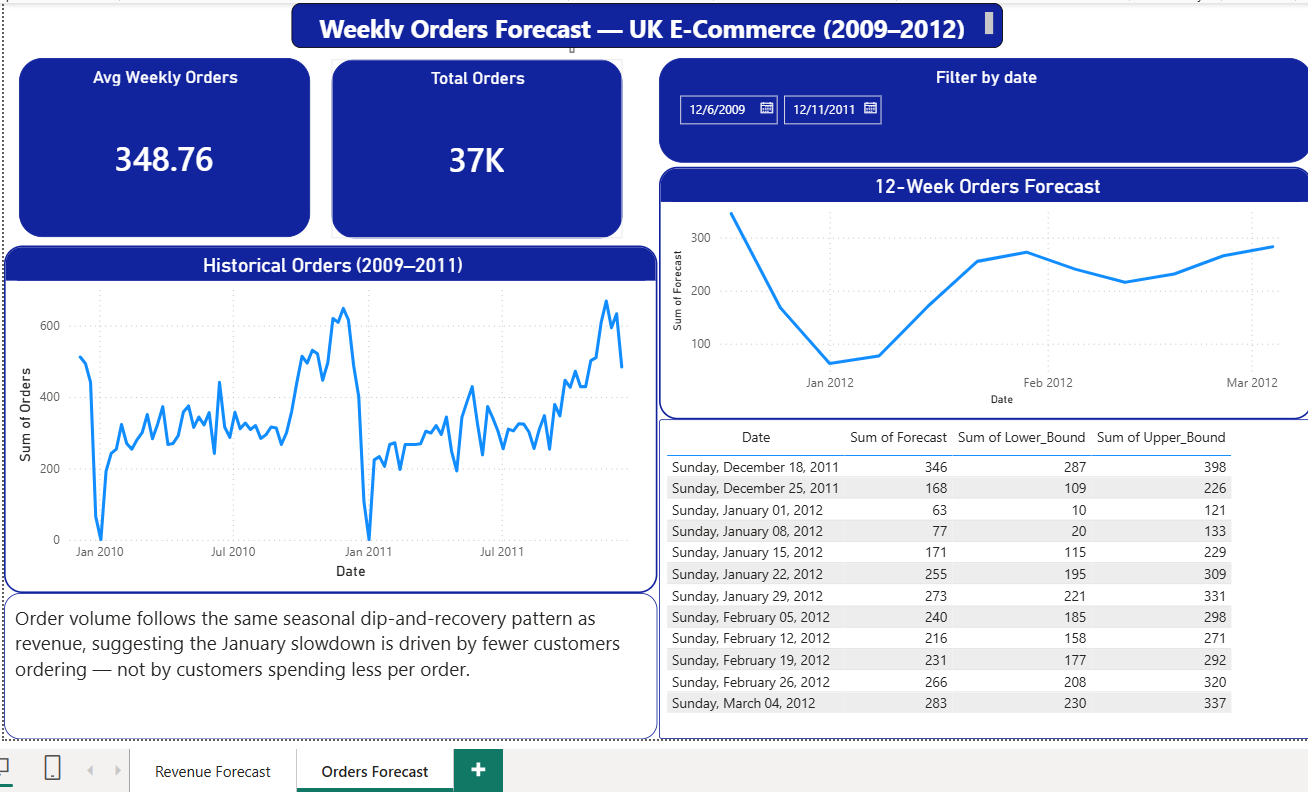

This screenshot's page, from the dashboard's own definition file:
{"tool":"powerbi","page":{"name":"Orders Forecast","canvas":[1280,720],"ordinal":1},"visuals":[{"type":"cardVisual","title":"Avg Weekly Orders","fields":{"Data":["backtest_results.Avg Weekly Orders"]},"box":[14.7,53.8,284.9,174.9],"z":0},{"type":"cardVisual","title":"Total Orders","fields":{"Data":["Sum(weekly_historical_data.Orders)"]},"box":[320.4,55,284.9,174.9],"z":1000},{"type":"lineChart","title":"Historical Orders (2009–2011)","fields":{"Category":["weekly_historical_data.Date"],"Y":["Sum(weekly_historical_data.Orders)"]},"box":[0,237.2,639.5,339.9],"z":2000},{"type":"lineChart","title":"12-Week Orders Forecast","fields":{"Category":["weekly_orders_forecast.Date"],"Y":["Sum(weekly_orders_forecast.Forecast)"]},"box":[640.8,160.2,639.5,247],"z":3000},{"type":"slicer","title":"Filter by date","fields":{"Values":["weekly_historical_data.Date"]},"box":[640.8,53.8,639.5,102.7],"z":4000},{"type":"textbox","box":[281.3,0,695.8,44],"z":5000},{"type":"textbox","box":[0,577.2,639.5,143.1],"z":5002},{"type":"tableEx","fields":{"Values":["weekly_orders_forecast.Date","Sum(weekly_orders_forecast.Forecast)","Sum(weekly_orders_forecast.Lower_Bound)","Sum(weekly_orders_forecast.Upper_Bound)"]},"box":[640.8,407.2,639.5,313],"z":5003}]}

Visuals, with their boxes in screenshot pixels (x1, y1, x2, y2):
"Avg Weekly Orders" cardVisual: {"x1": 2, "y1": 49, "x2": 299, "y2": 232}
"Total Orders" cardVisual: {"x1": 321, "y1": 51, "x2": 619, "y2": 233}
"Historical Orders (2009–2011)" lineChart: {"x1": 0, "y1": 241, "x2": 655, "y2": 596}
"12-Week Orders Forecast" lineChart: {"x1": 656, "y1": 161, "x2": 1307, "y2": 419}
"Filter by date" slicer: {"x1": 656, "y1": 49, "x2": 1307, "y2": 157}
textbox: {"x1": 280, "y1": 0, "x2": 1007, "y2": 39}
textbox: {"x1": 0, "y1": 596, "x2": 655, "y2": 746}
tableEx - weekly_orders_forecast.Date x Sum(weekly_orders_forecast.Forecast): {"x1": 656, "y1": 419, "x2": 1307, "y2": 746}
